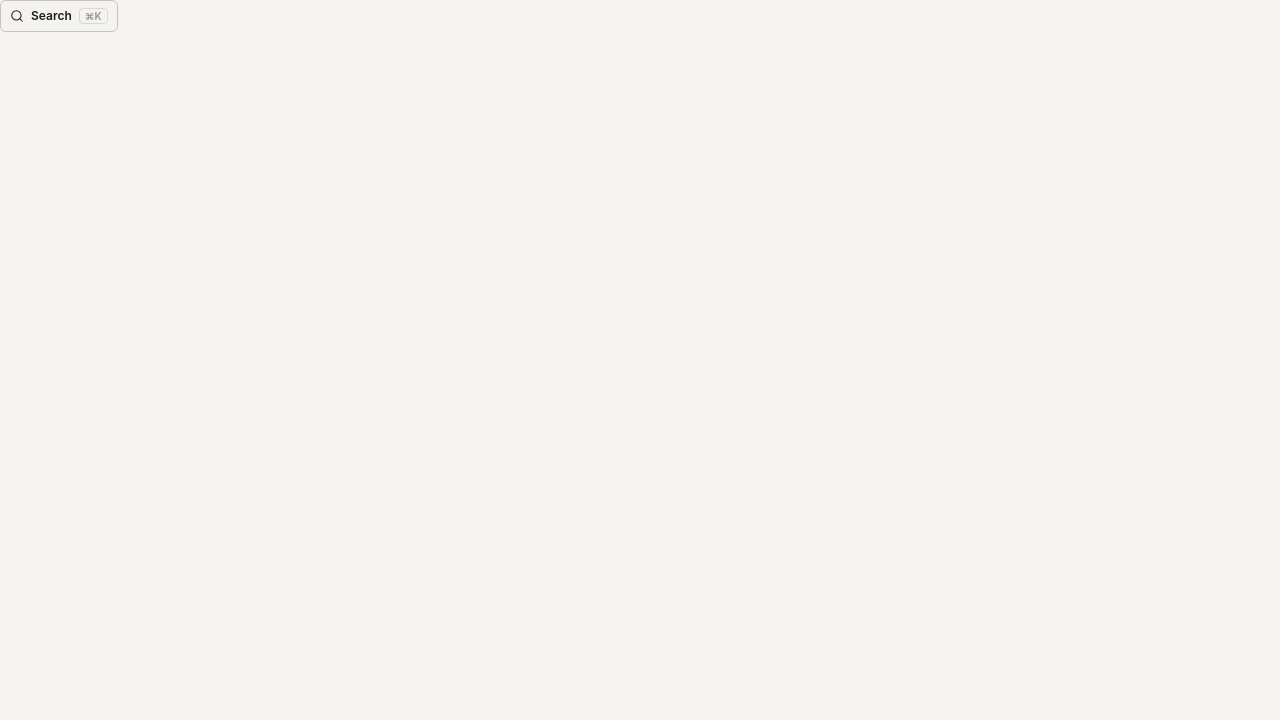
SearchCommand › uses an accessible dialog, listbox, and active descendant while preserving browser shortcuts
This screenshot has width=1280, height=720.
Press k
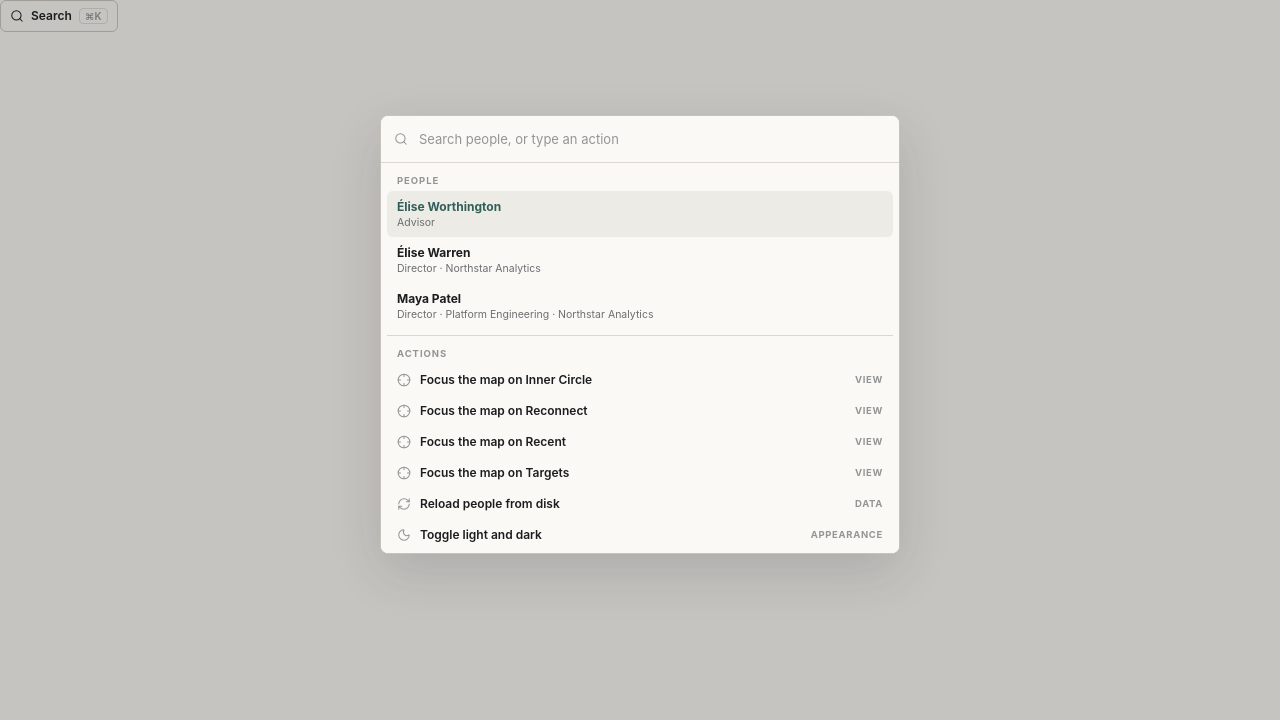
Press Arrowdown
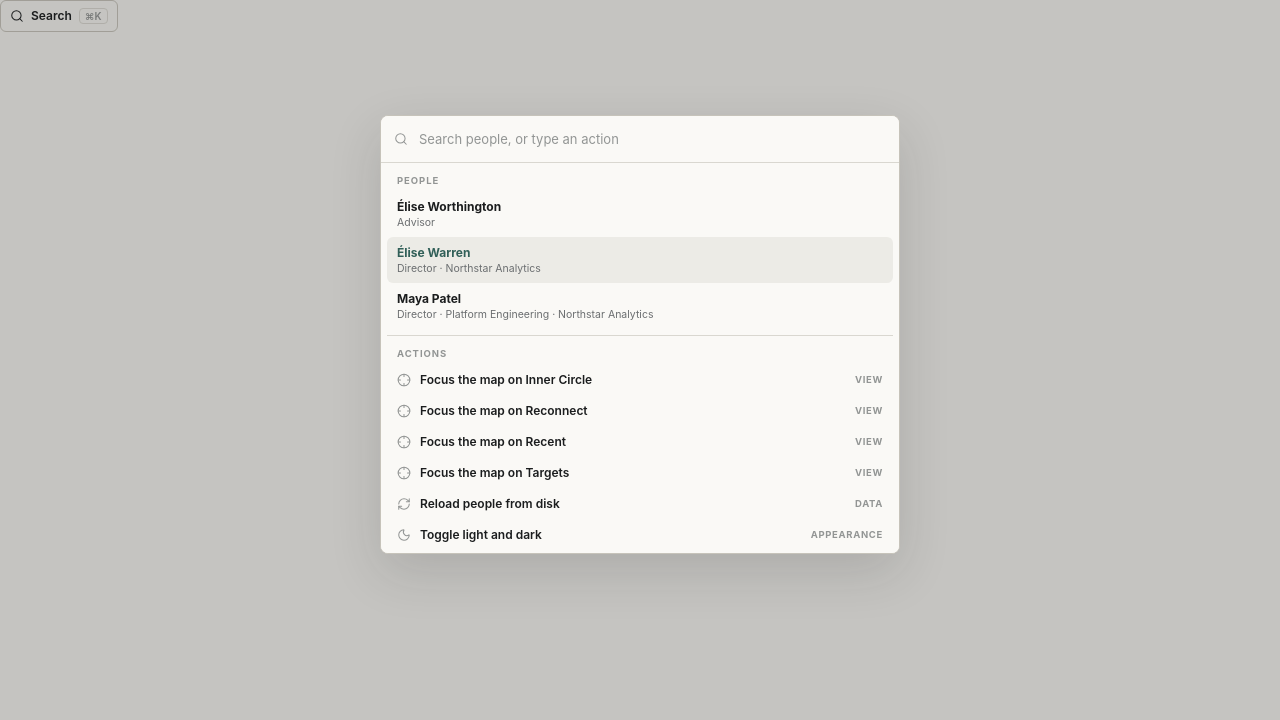
Type "not-a-person" into the dropdown labelled "Search people, or type an action".
click(652, 139); type("not-a-person")  # box x1=417 y1=116 x2=886 y2=162
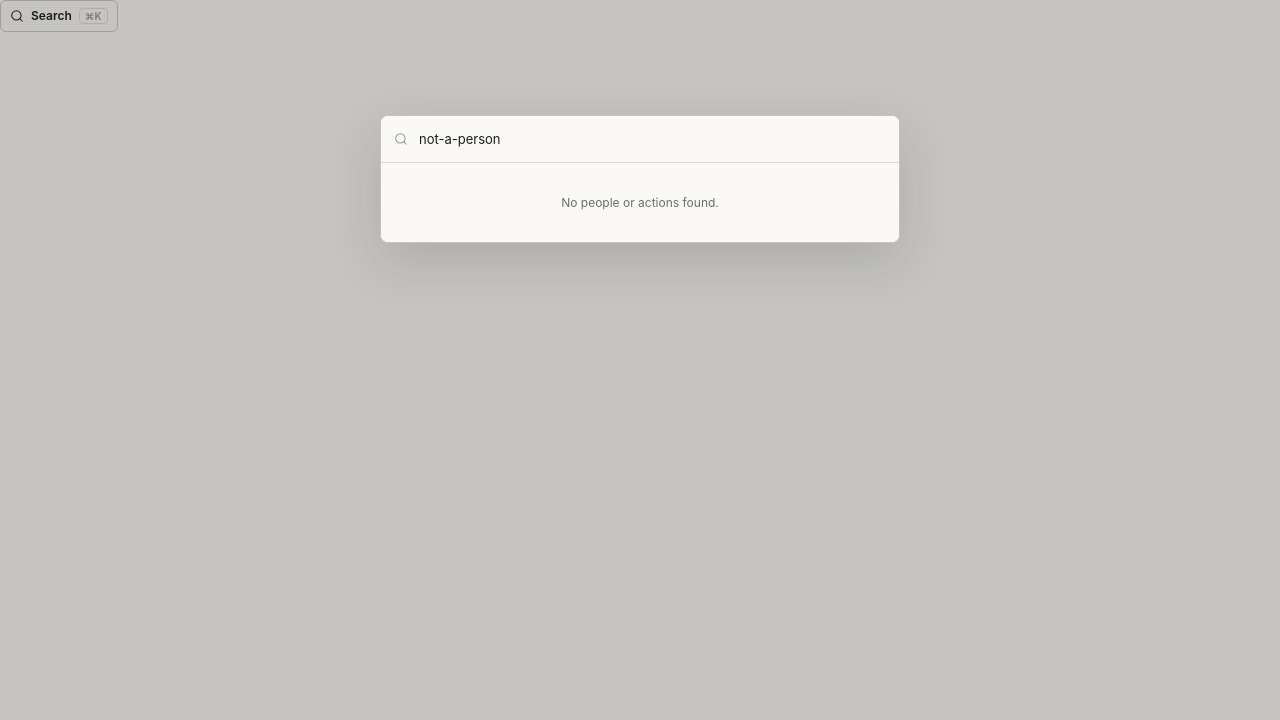
Expected: the text "No people or actions found." is shown, x1=561 y1=195 x2=719 y2=210
